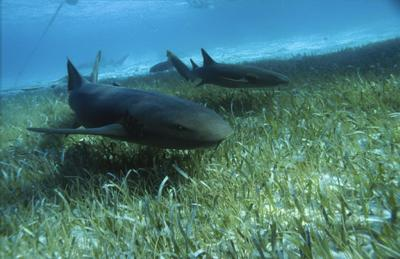Shark -Selachimorpha-: (23, 54, 237, 155), (153, 43, 294, 89)
